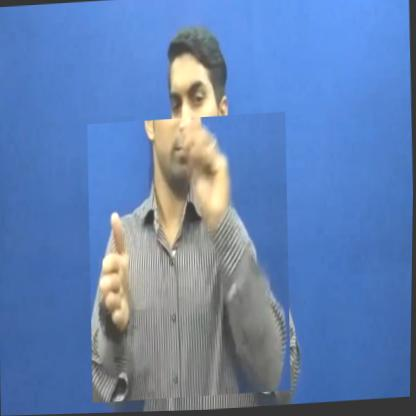Expensive: (85, 113, 296, 404)
